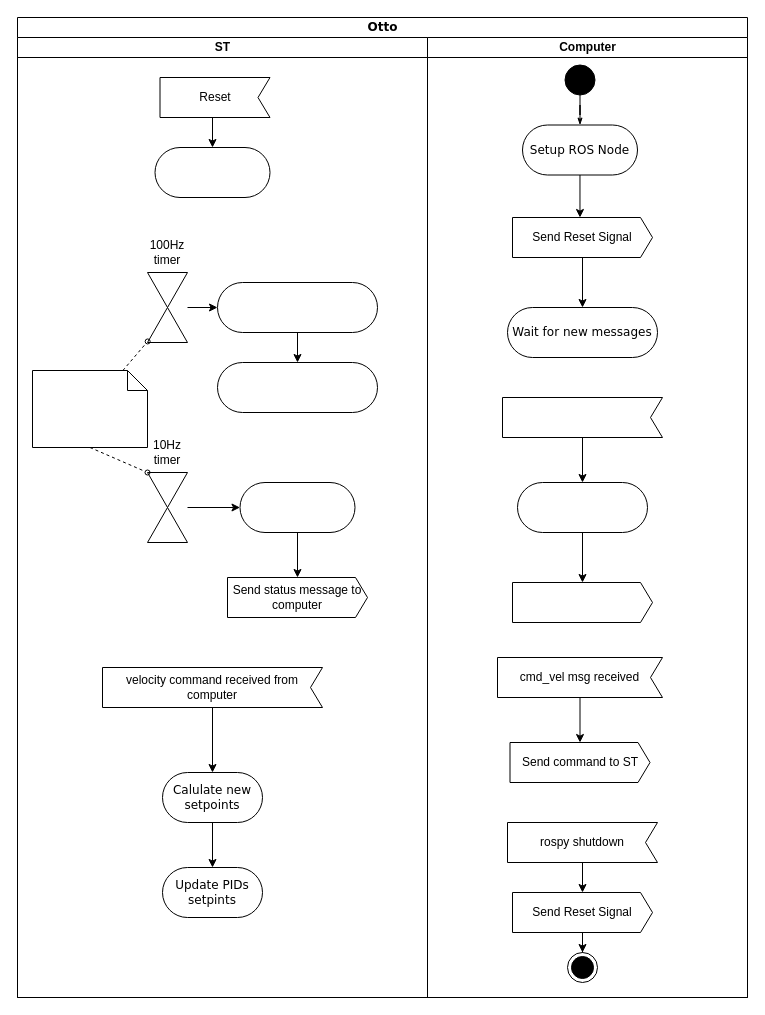
The diagram is 765 pixels wide and 1015 high, and some of its shapes have lost their labels. Here are the shapes that lost their labels. From the top down, the centre of each, then its label:
At (212,172): "Setup".
At (297,307): "Calc PIDs new output".
At (297,387): "Set PWM values".
At (90,409): "Timers started after receiving the first cmd_vel".
At (582,417): "Status message received from ST".
At (297,507): "Calculate linear and angular velocities".
At (582,507): "Calculate odometry".
At (582,602): "Publish odometry msg".
